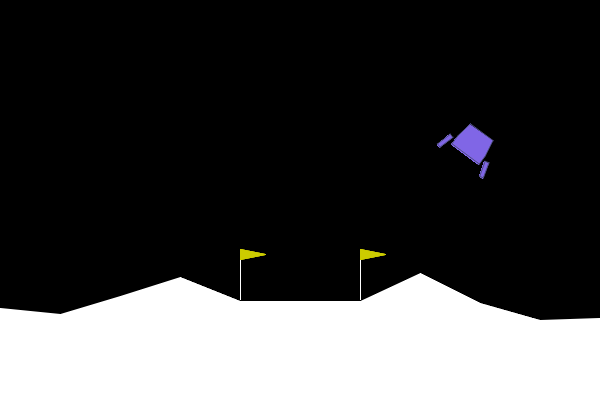lander: (435, 113, 507, 181)
